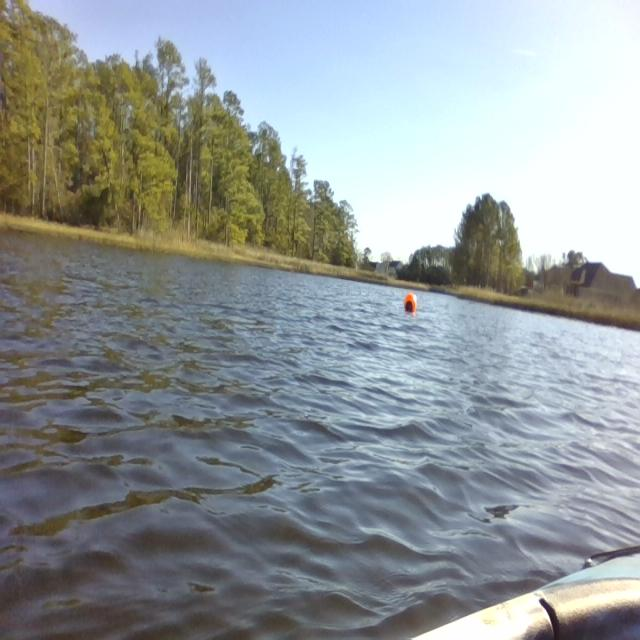Buoy: (401, 284, 421, 323)
